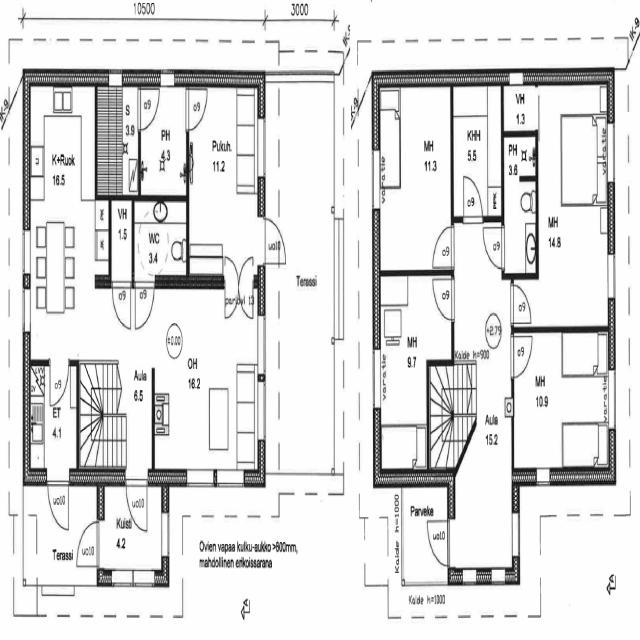door: (262, 219, 286, 264), (126, 479, 147, 529), (427, 520, 449, 566), (48, 480, 68, 530), (77, 522, 99, 566), (432, 278, 453, 320), (135, 282, 154, 328), (463, 176, 482, 222), (186, 89, 207, 130), (511, 336, 532, 377), (138, 89, 159, 129), (482, 228, 503, 268), (112, 282, 130, 328), (50, 360, 68, 405), (511, 284, 531, 324), (433, 228, 453, 266), (224, 249, 238, 288), (238, 249, 252, 288), (225, 280, 239, 318), (238, 280, 252, 318)
